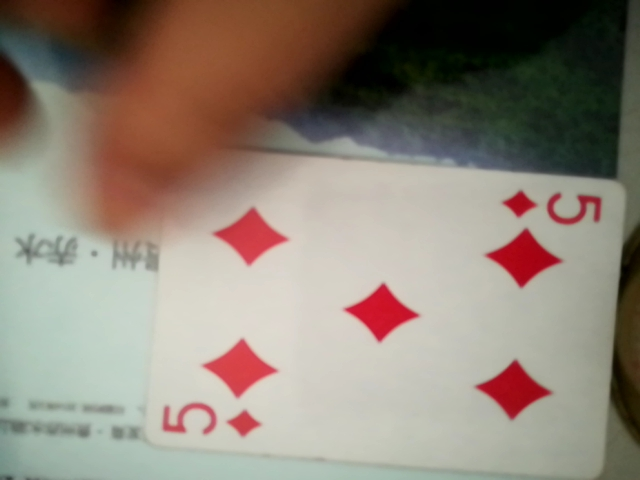fk 5: (144, 154, 624, 479)
